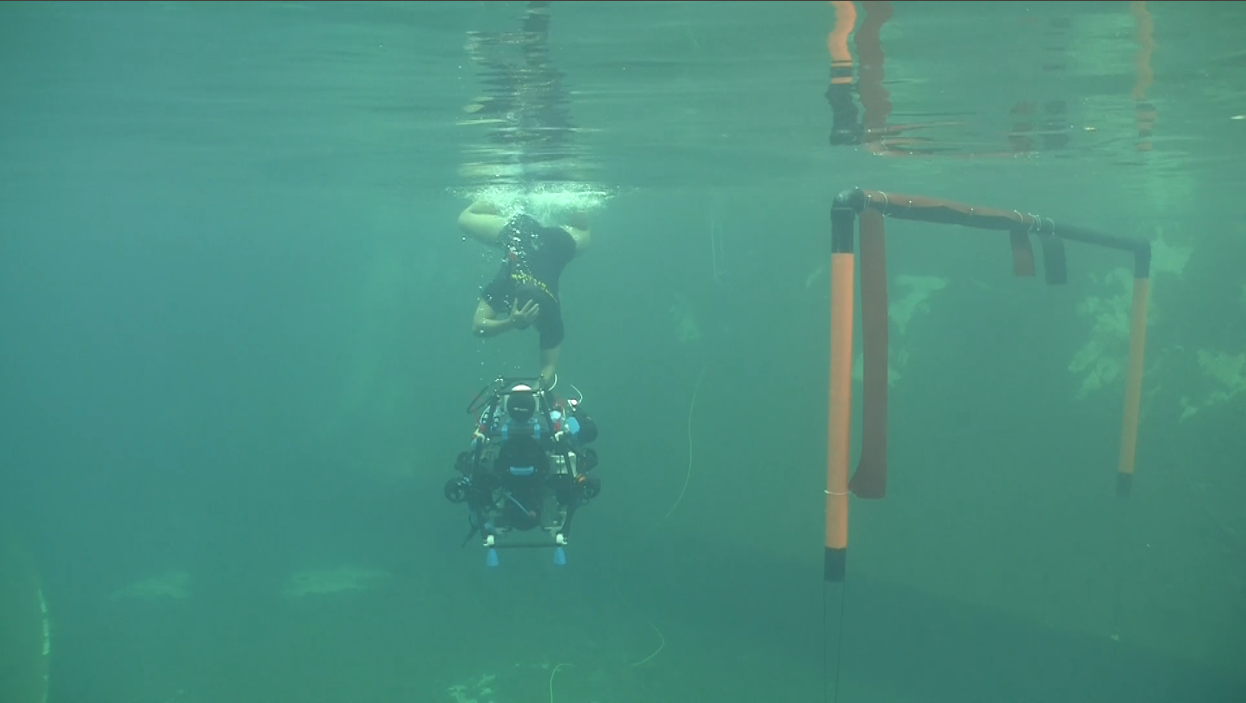gate: (805, 183, 1167, 594)
